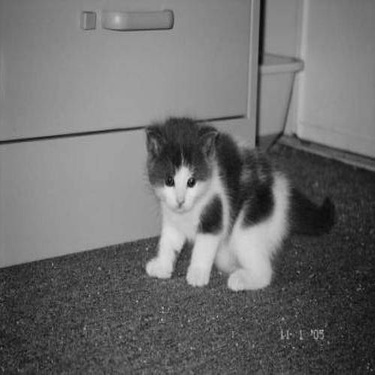cat: (145, 116, 336, 297)
